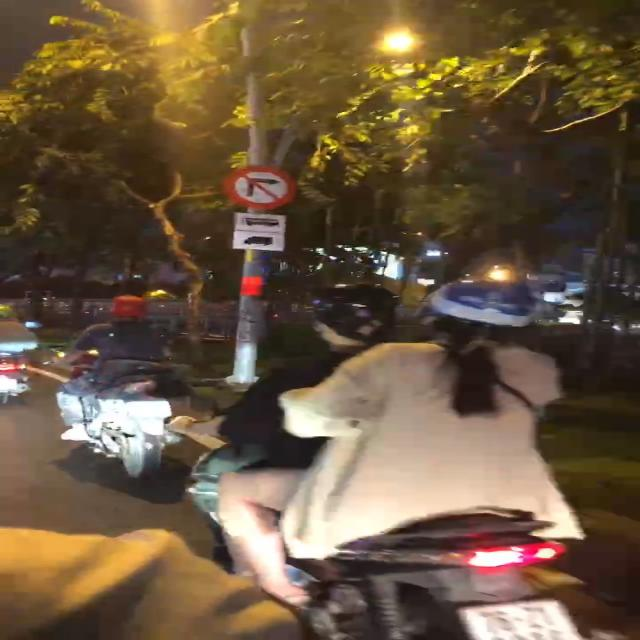Bien bao cam re phai: (225, 163, 300, 212)
